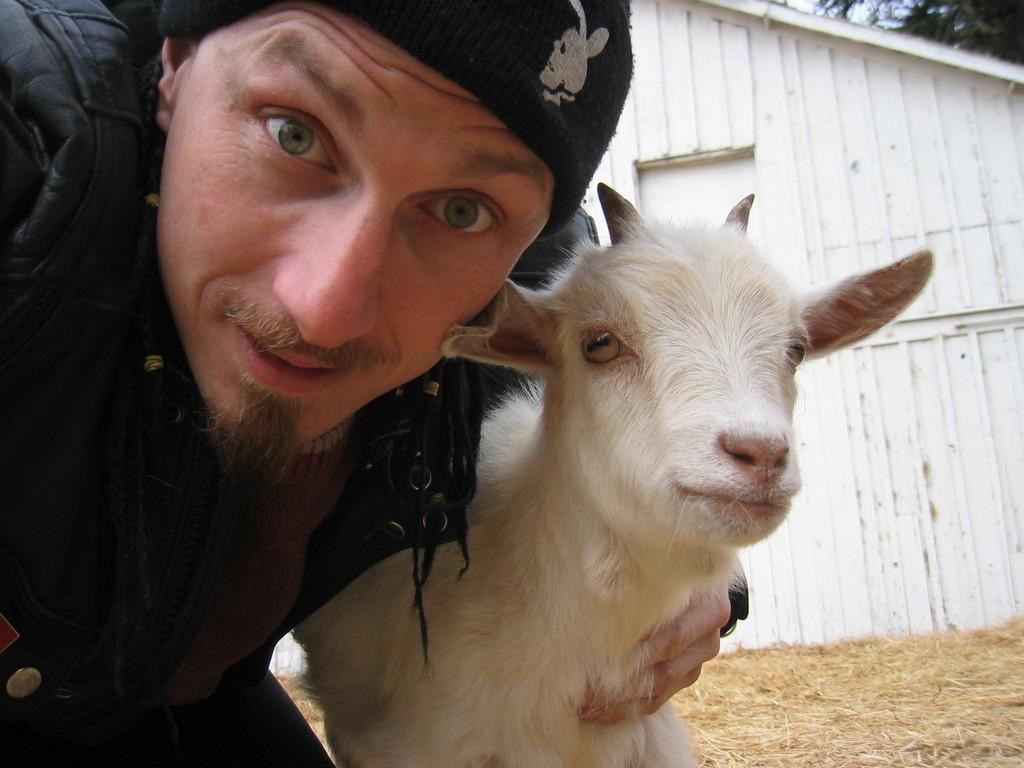Sem Máscara: (150, 3, 544, 441)
